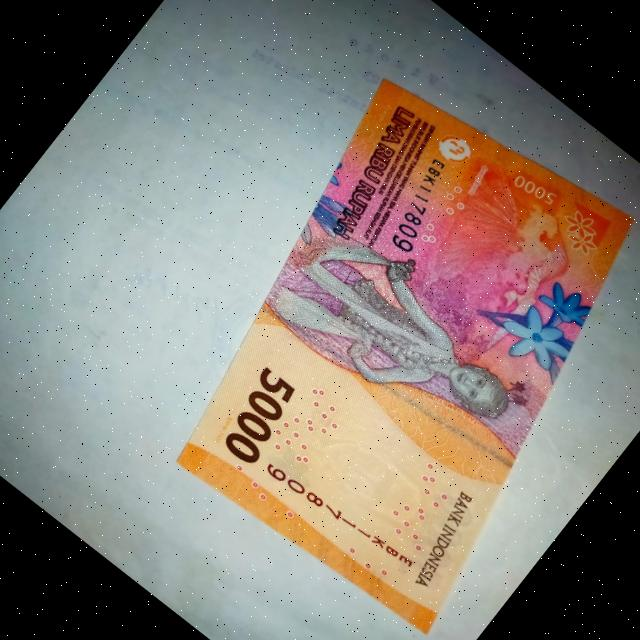5K: (86, 8, 640, 640)
